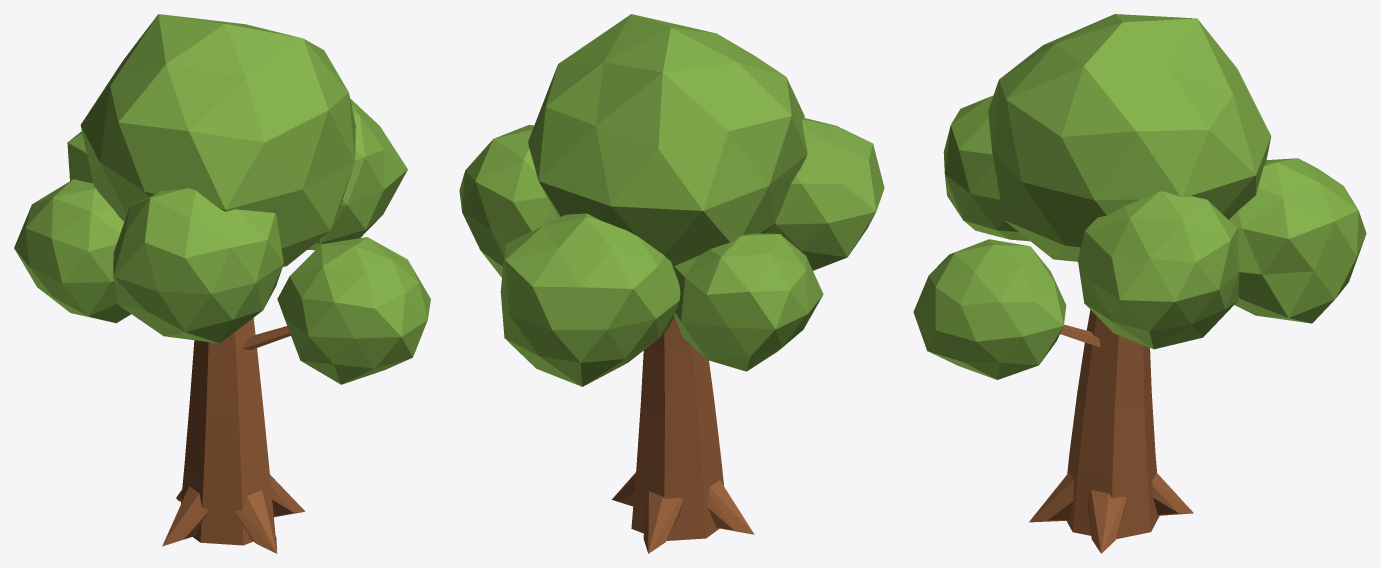
Rendered from tree_b.glb.
3 renders of one model, left to right at view 1: azimuth 30°, elevation 25°; view 2: azimuth 150°, elevation 25°; view 3: azimuth 270°, elevation 25°, orthographic.
Visible parts, largest first — view 1: tree_b_laub, tree_b_rinde; view 2: tree_b_laub, tree_b_rinde; view 3: tree_b_laub, tree_b_rinde.
Boxes of the visible parts, box(x1,y1,x2,y2) form: tree_b_laub: box(14, 14, 430, 384); tree_b_rinde: box(162, 318, 305, 553); tree_b_laub: box(459, 14, 884, 386); tree_b_rinde: box(612, 317, 754, 553); tree_b_laub: box(913, 14, 1366, 379); tree_b_rinde: box(1029, 310, 1193, 553).
Size of the model in its own units: 3.41 by 4.6 by 3.8.
